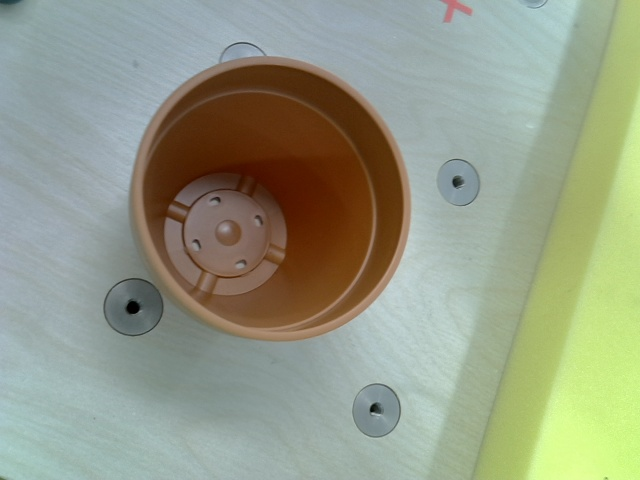화분: (131, 56, 414, 343)
